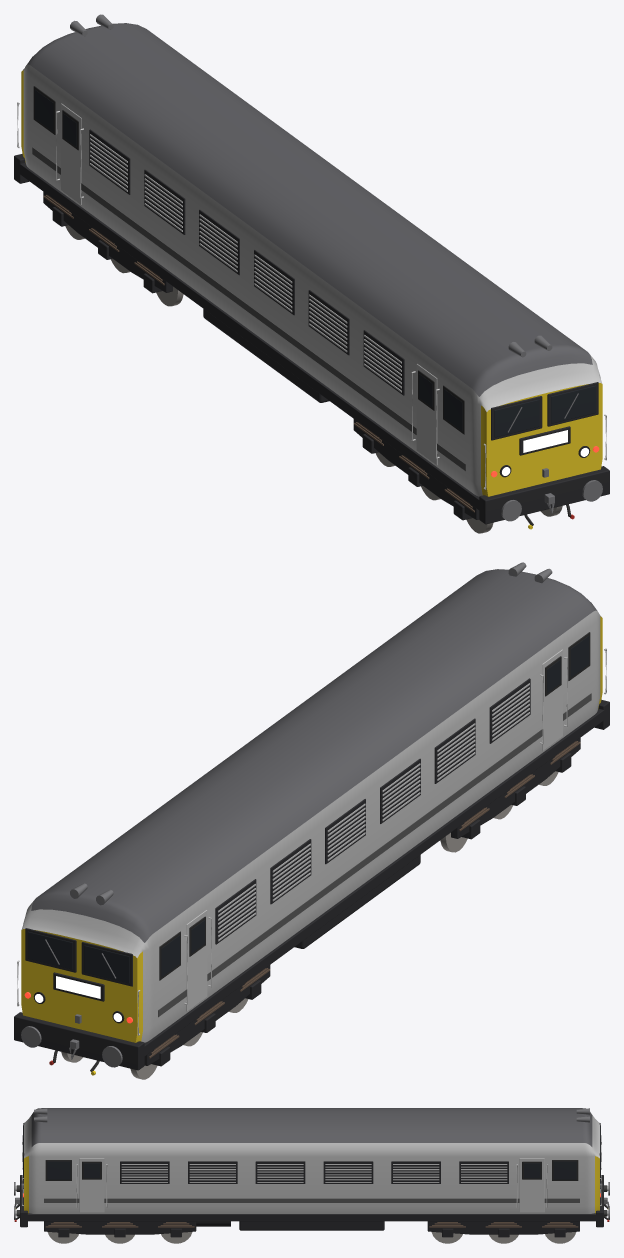
File: train_diesel_old.glb
3 renders of one model, top to bottom at view 1: azimuth 30°, elevation 25°; view 2: azimuth 150°, elevation 25°; view 3: azimuth 270°, elevation 25°, orthographic. The views are drawn at different scales.
Parts seen in each view (by area): view 1: SM_train_diesel_old; view 2: SM_train_diesel_old; view 3: SM_train_diesel_old.
Boxes of the visible parts, <box> form: SM_train_diesel_old: <box>14,14,609,533</box>; SM_train_diesel_old: <box>14,562,609,1079</box>; SM_train_diesel_old: <box>14,1108,609,1243</box>.
Size of the model in its own units: 2.84 by 4 by 18.01.
